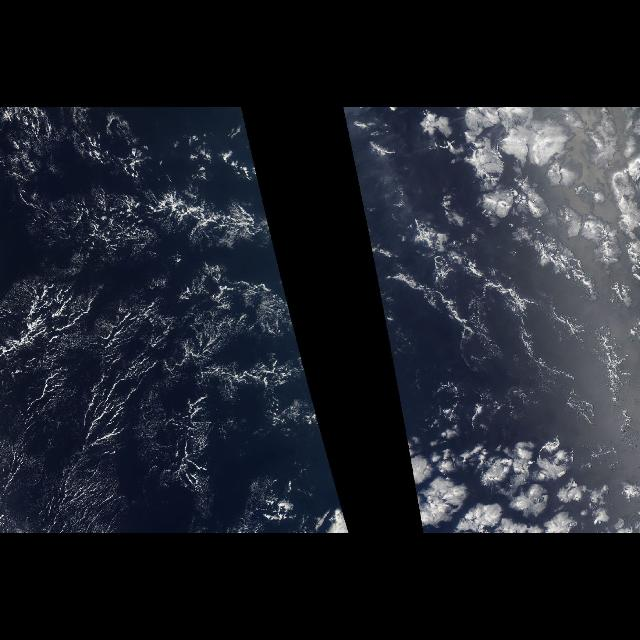Fish: (134, 168, 252, 258)
Flower: (472, 108, 640, 266), (402, 417, 632, 523)
Sugar: (4, 436, 146, 534)
